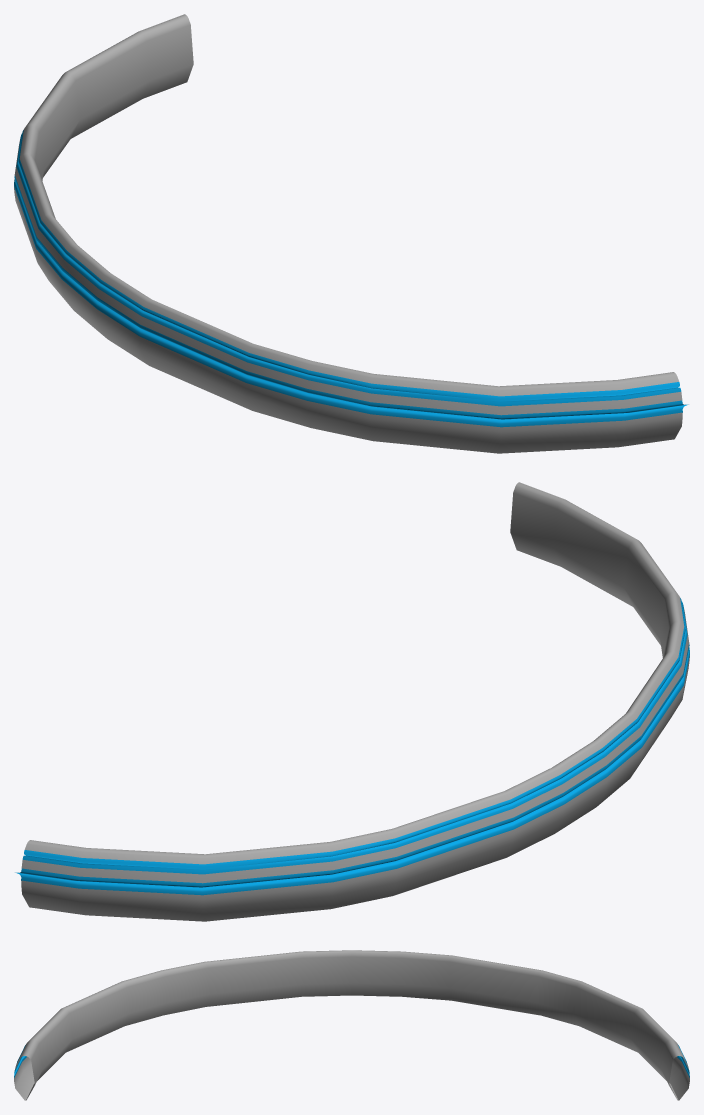
Rendered from MuroCastleWall.fbx.
3 views of the same model, one above another, from view 1: azimuth 30°, elevation 25°; view 2: azimuth 150°, elevation 25°; view 3: azimuth 270°, elevation 25° (orthographic). The views are drawn at different scales.
Parts seen in each view (by area): view 1: CastleMuro; view 2: CastleMuro; view 3: CastleMuro.
Part boxes in pixels (<box>): CastleMuro: <box>14,14,688,453</box>; CastleMuro: <box>15,482,689,921</box>; CastleMuro: <box>14,950,689,1100</box>.
Size of the model in its own units: 35.05 by 6.57 by 89.91.
